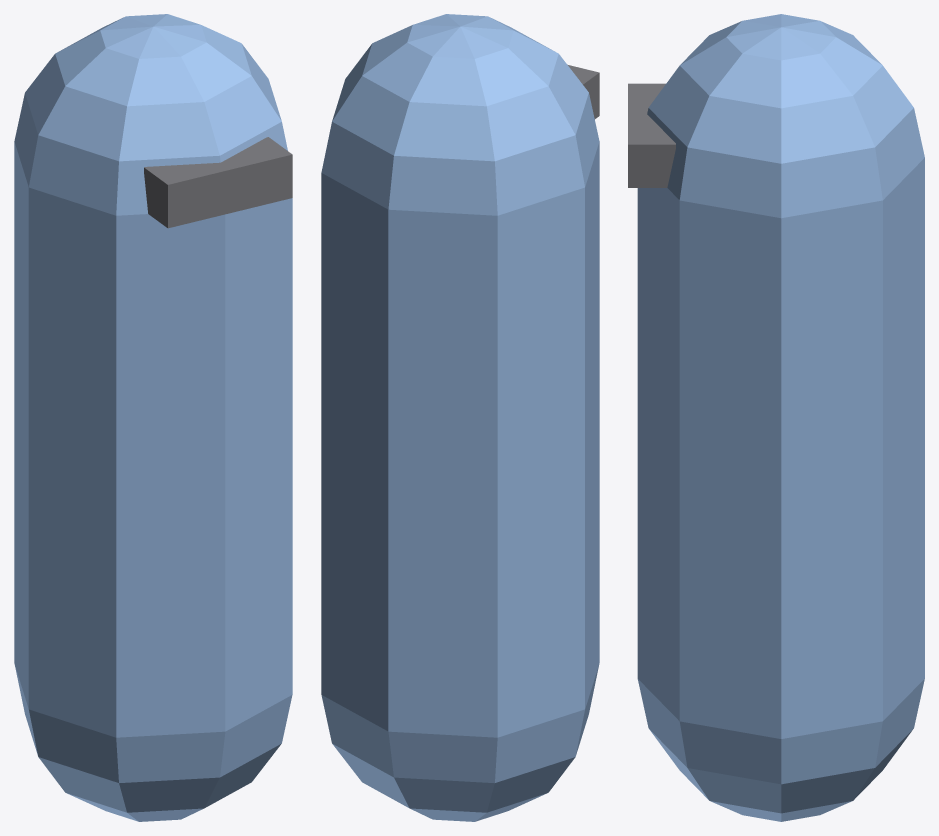
The model's file is player_scale_ref.glb.
The picture shows the model from 3 angles, left to right: view 1: azimuth 30°, elevation 25°; view 2: azimuth 150°, elevation 25°; view 3: azimuth 270°, elevation 25°; orthographic projection.
Visible parts, largest first — view 1: player_scale_ref_player, player_scale_ref_dark; view 2: player_scale_ref_player, player_scale_ref_dark; view 3: player_scale_ref_player, player_scale_ref_dark.
Part boxes in pixels (x1,y1,x2,y2): player_scale_ref_player: (14, 14, 292, 821); player_scale_ref_dark: (144, 137, 292, 228); player_scale_ref_player: (321, 14, 599, 821); player_scale_ref_dark: (567, 64, 599, 119); player_scale_ref_player: (637, 14, 924, 821); player_scale_ref_dark: (628, 83, 675, 187).
Bounding box in the file's own units: 0.6 × 1.8 × 0.62.
